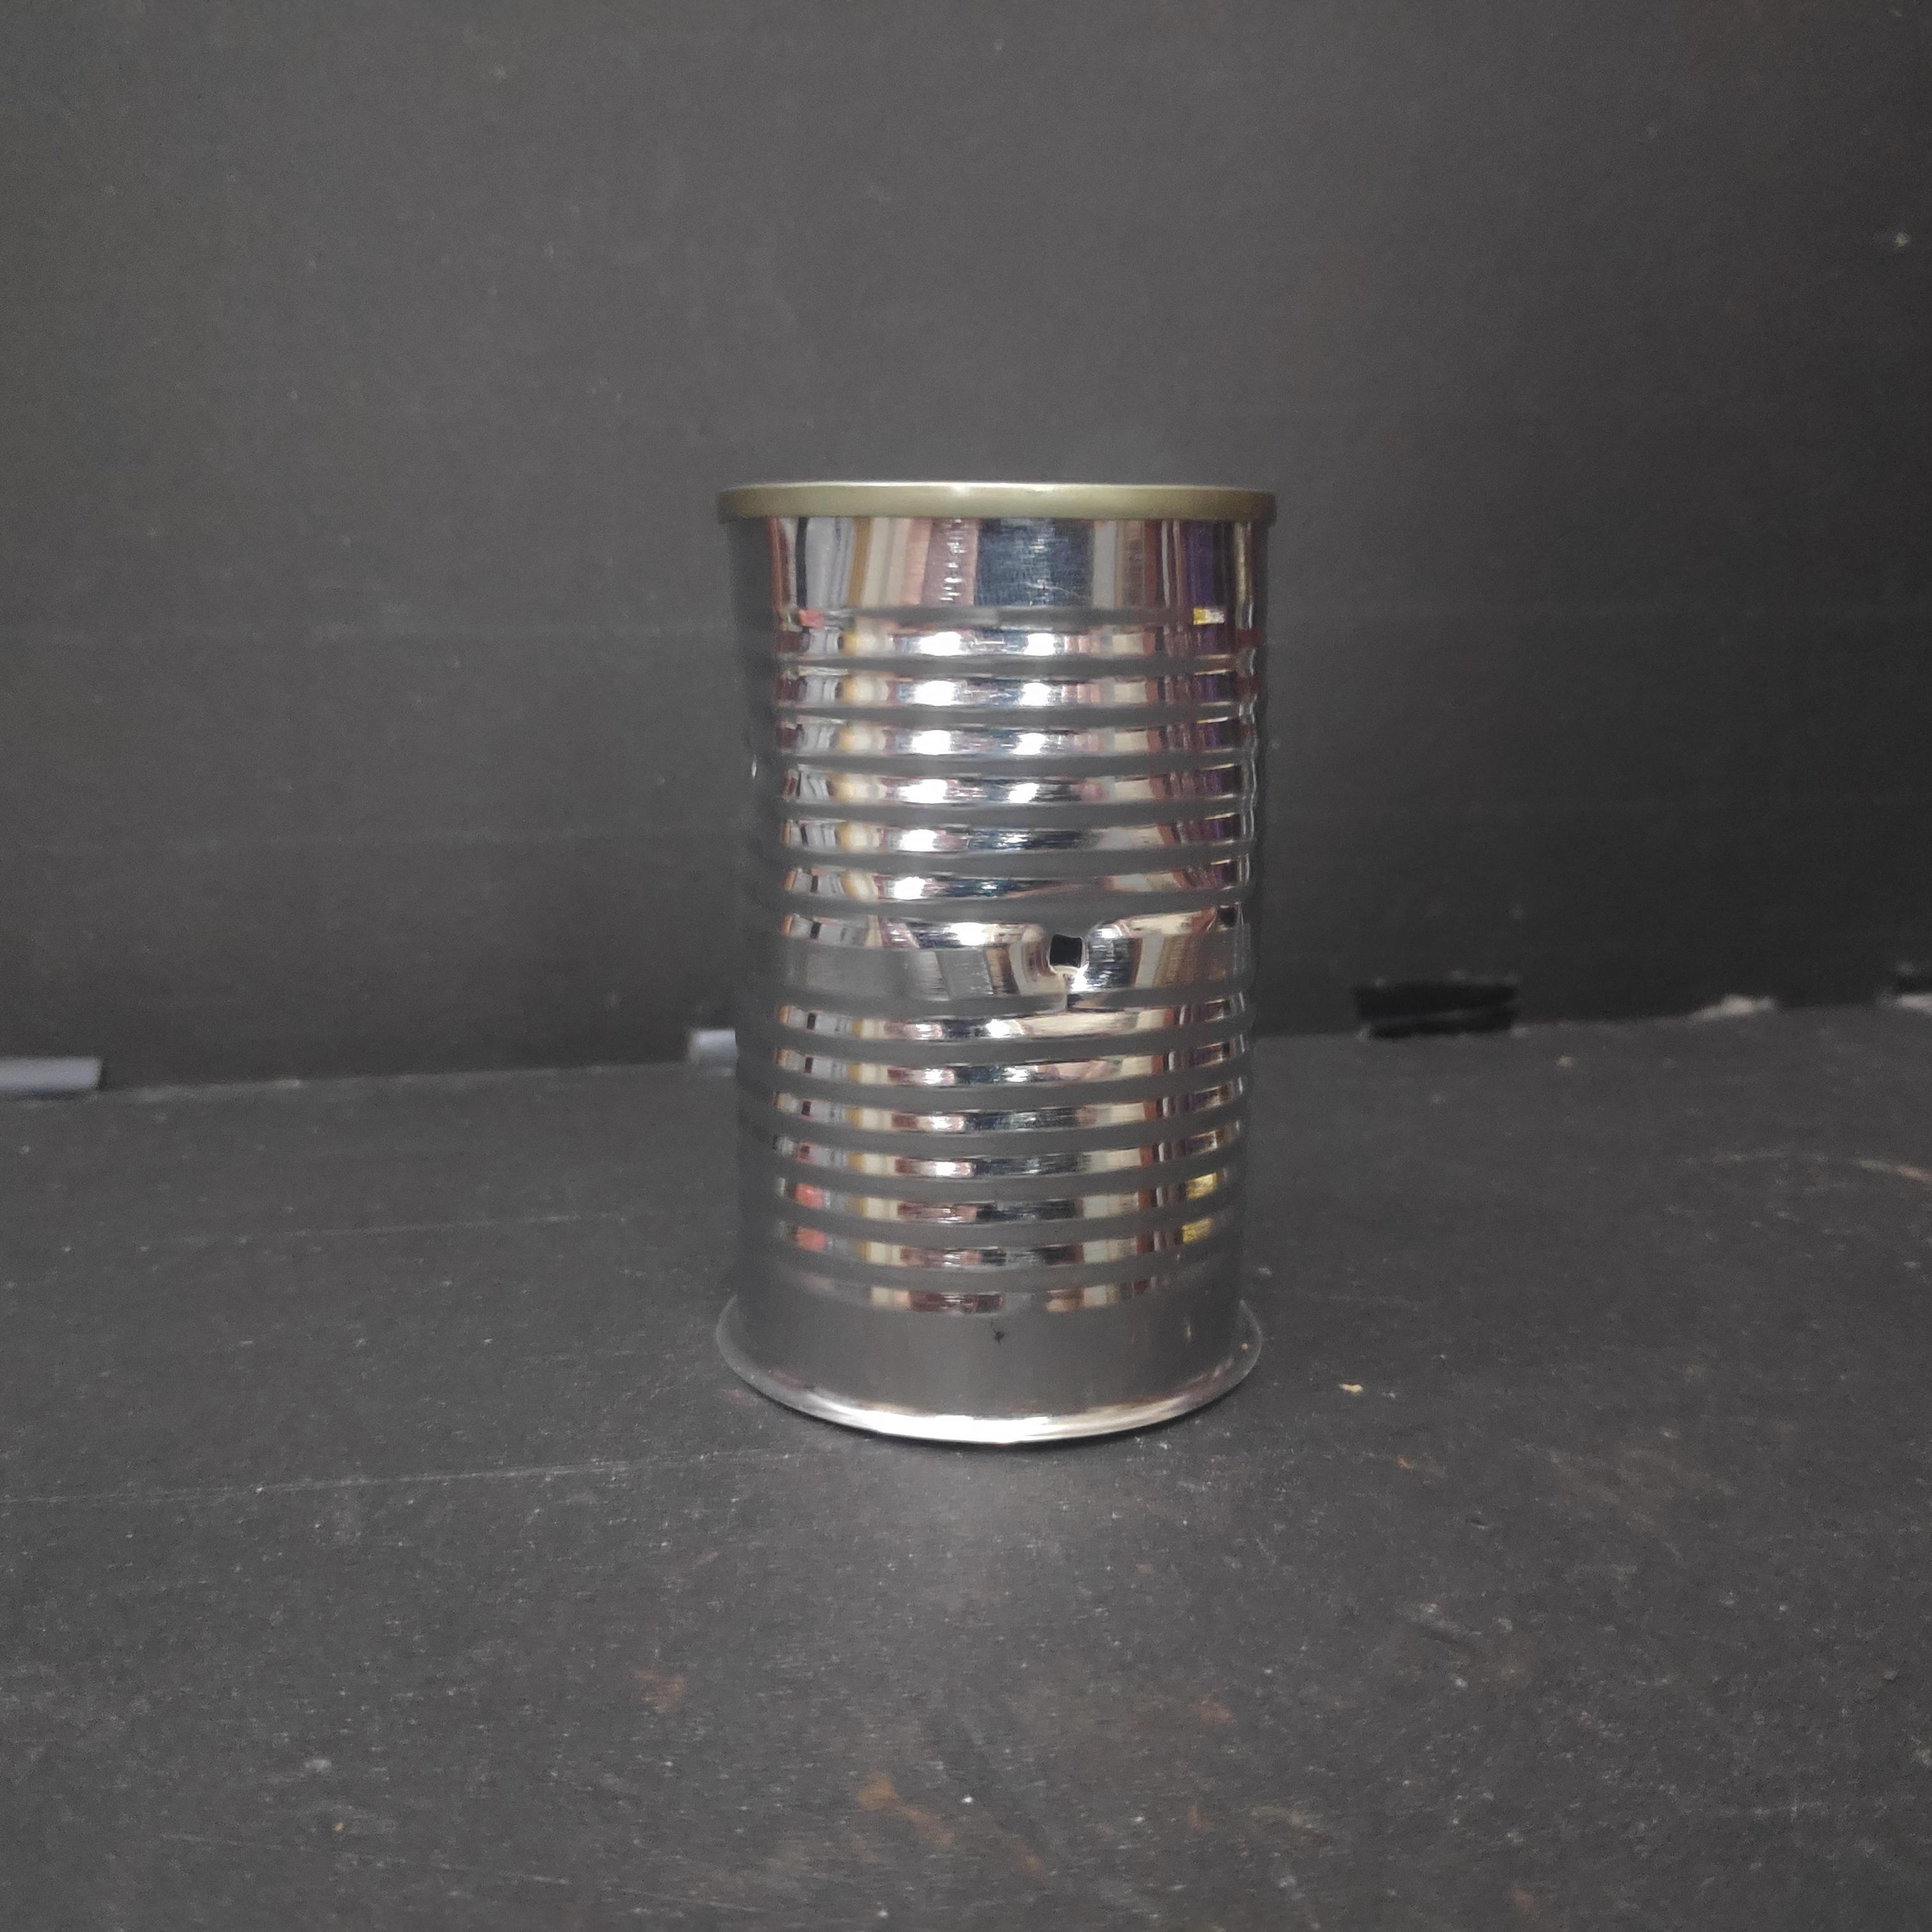Critical Defect: (710, 473, 1281, 1451)
